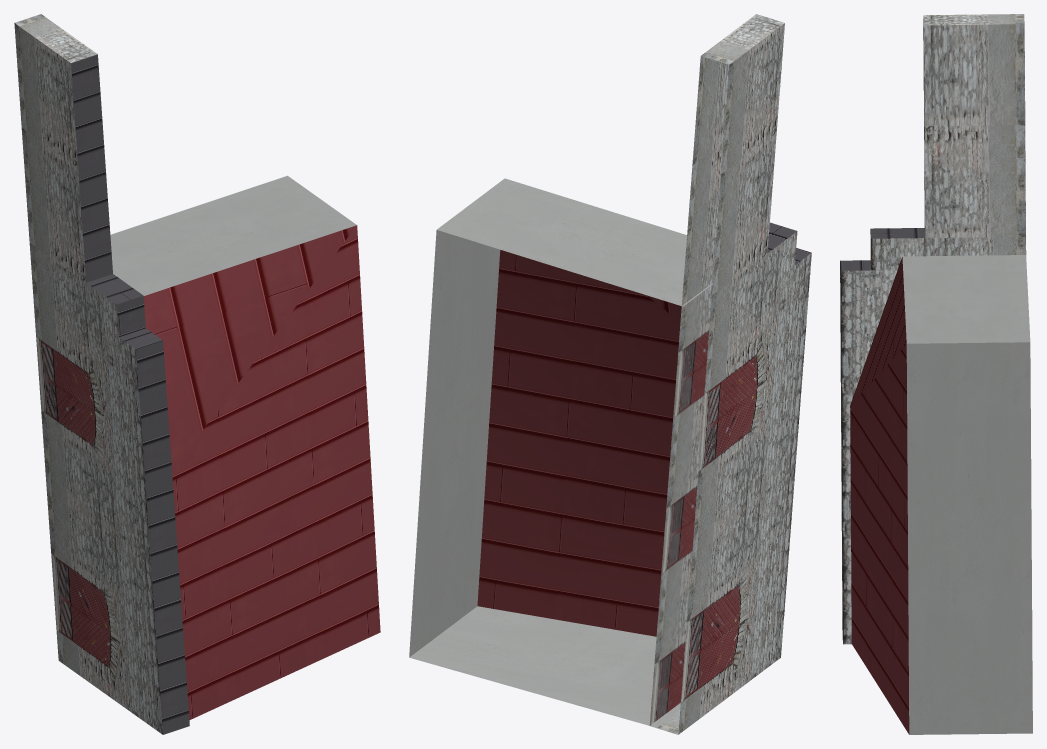
File: Uus10a.obj
3 views of the same model, side by side, from view 1: azimuth 30°, elevation 25°; view 2: azimuth 150°, elevation 25°; view 3: azimuth 270°, elevation 25° (orthographic). The views are drawn at different scales.
Parts seen in each view (by area): view 1: Default; view 2: Default; view 3: Default.
Part boxes in pixels (bbox=[...]): Default: bbox=[14, 14, 380, 734]; Default: bbox=[409, 14, 811, 734]; Default: bbox=[840, 14, 1032, 734].
Bounding box in the file's own units: 8.81 × 18.13 × 5.29.
